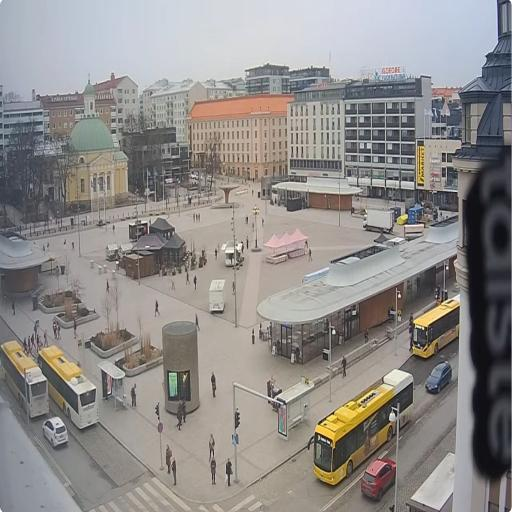bus: (306, 369, 414, 489), (38, 343, 98, 431), (0, 339, 50, 420), (409, 294, 460, 361)
car: (361, 457, 397, 503), (422, 361, 453, 400), (41, 414, 70, 452), (195, 172, 204, 183), (206, 174, 215, 184), (190, 172, 196, 180)
delivery: (362, 206, 394, 235)
